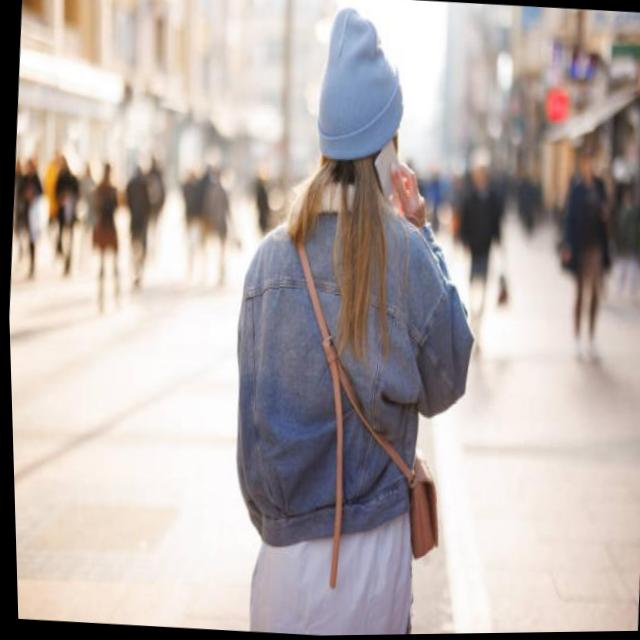no helmet: (284, 0, 431, 219)
